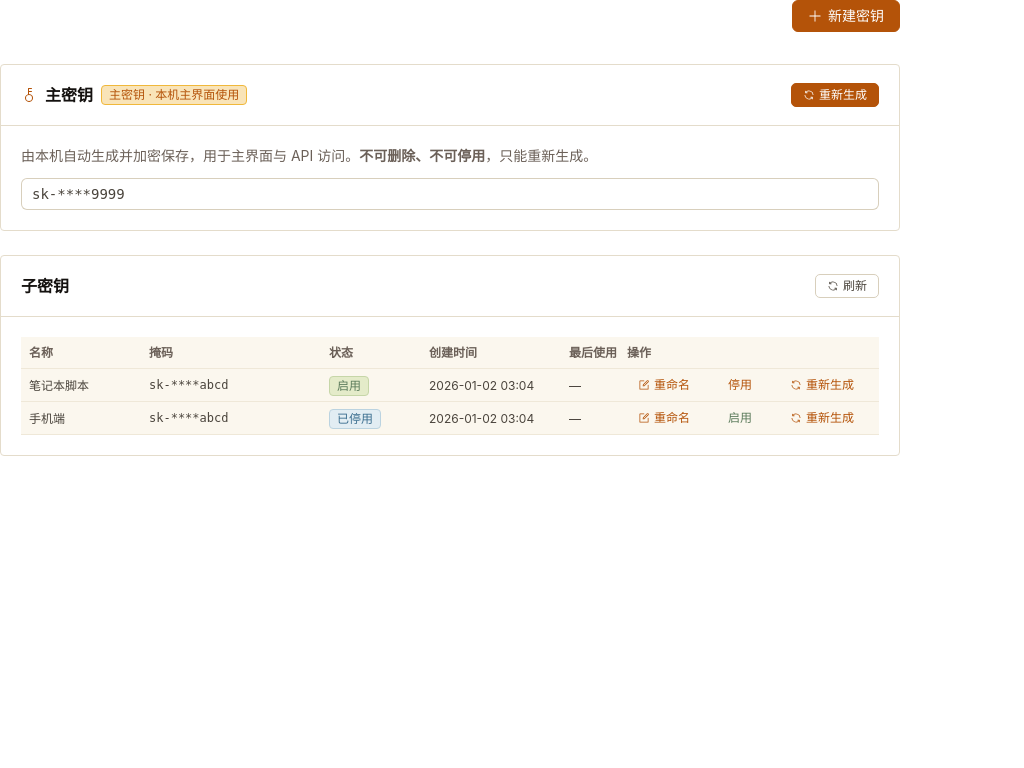
Scenario: ApiKeysPanel › 创建密钥后弹出一次性明文弹窗（含明文与不可再次查看警示）
The width and height of the screenshot is (1024, 768).
Click the button "新建密钥". click: (846, 16)
box: [792,0,900,32]
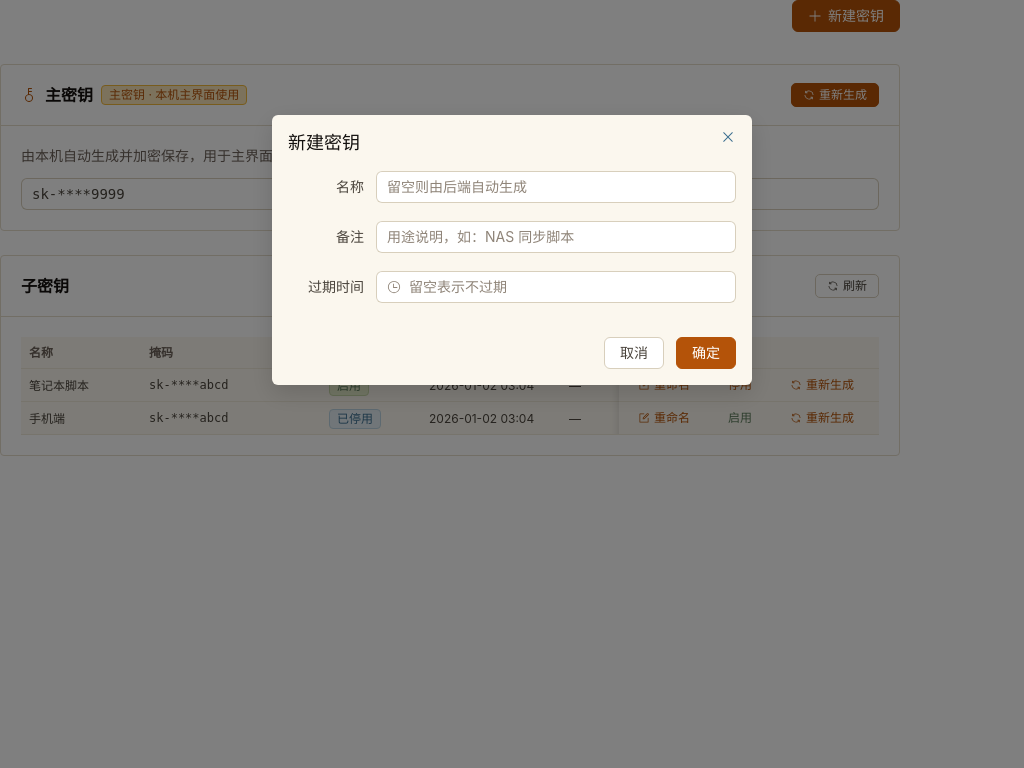
expect the field labelled "名称" is shown: met
Type "新密钥" into the field labelled "名称". click: (556, 187)
box: [387,172,725,202]
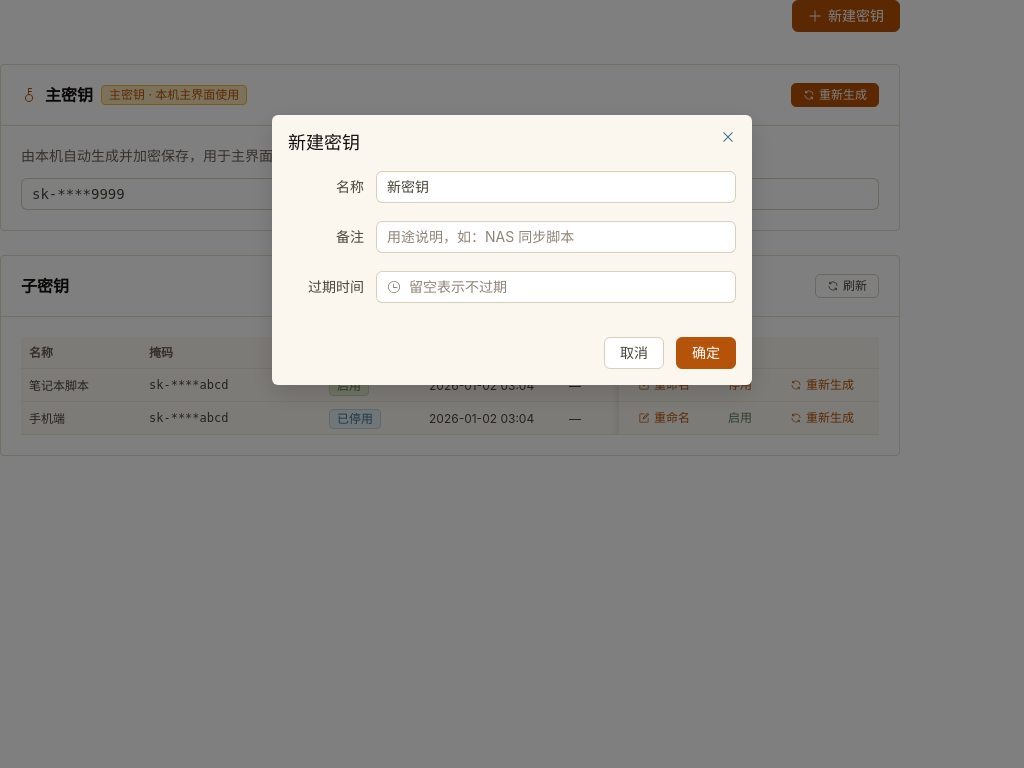
expect the button "确定" is shown: met
Click the button "确定". click: (706, 353)
box: [676,337,736,369]
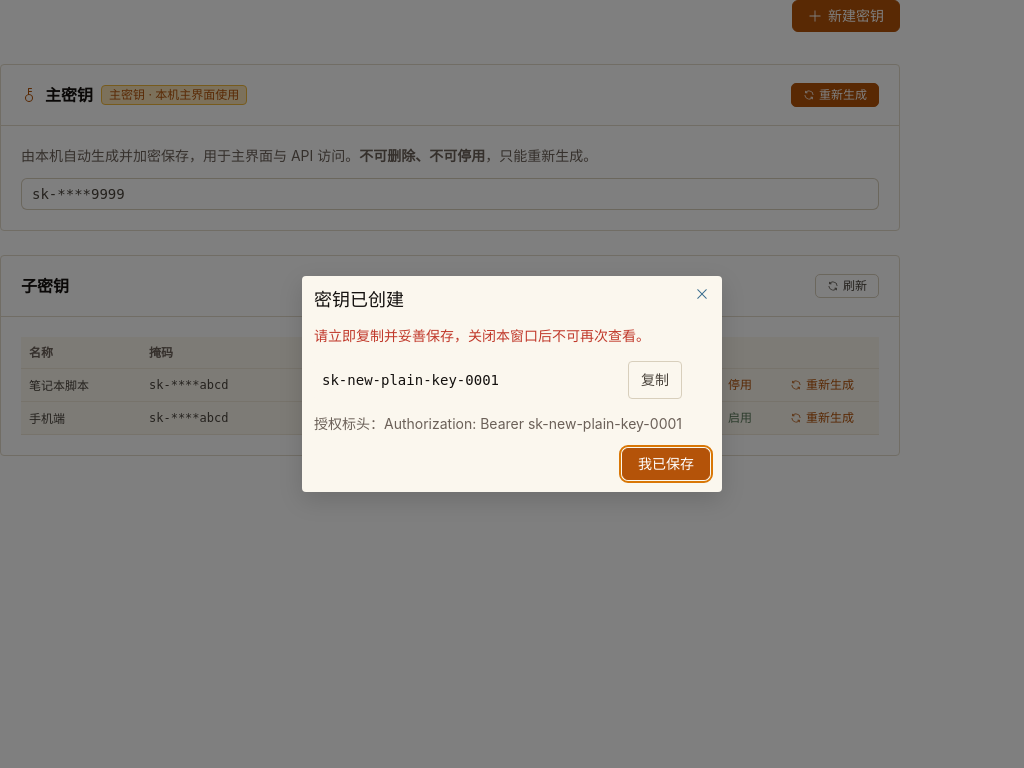
expect the text "sk-new-plain-key-0001" is shown: met, box [314,360,620,400]
expect the text "关闭本窗口后不可再次查看" is shown: met, box [314,327,650,344]
expect the button "我已保存" is shown: met
Click the button "我已保存". click: (666, 464)
box: [622,448,710,480]
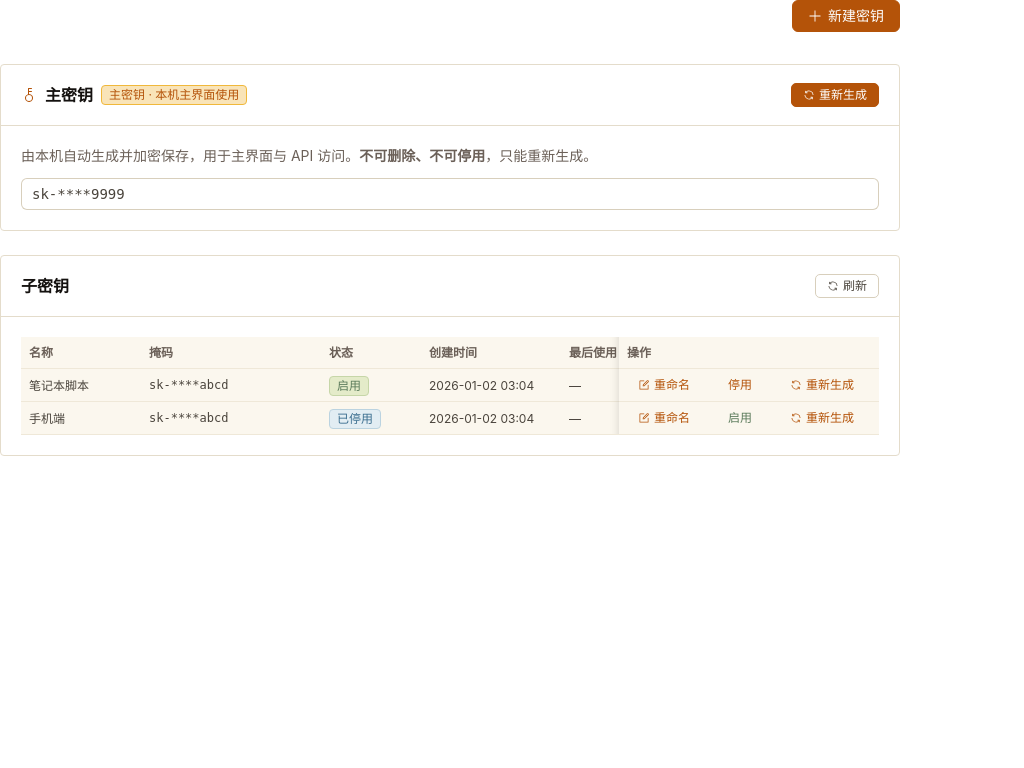
expect the text "sk-new-plain-key-0001" is gone: met
